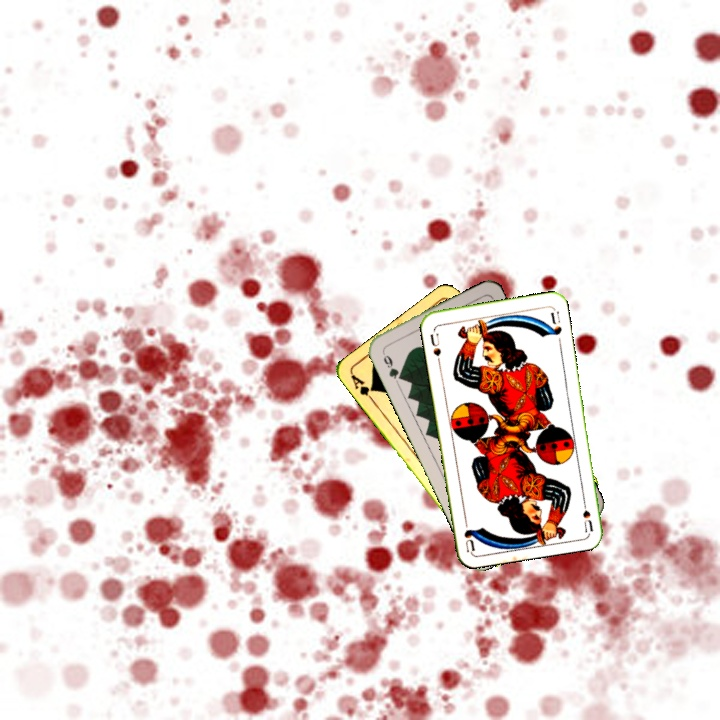G9: (378, 347, 406, 383)
GA: (347, 370, 377, 405)
SU: (426, 325, 444, 366), (578, 492, 596, 533)
